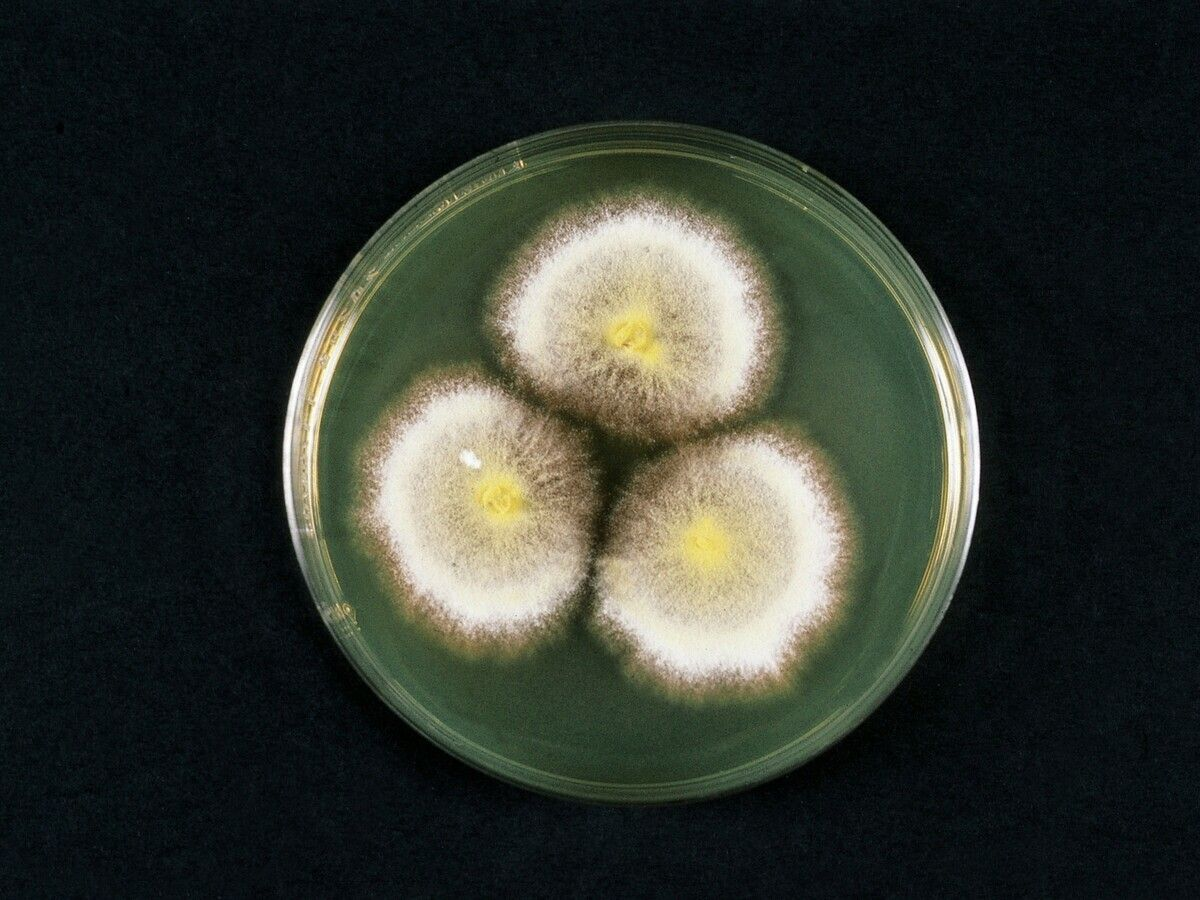Trichophyton: (396, 248, 854, 679)
